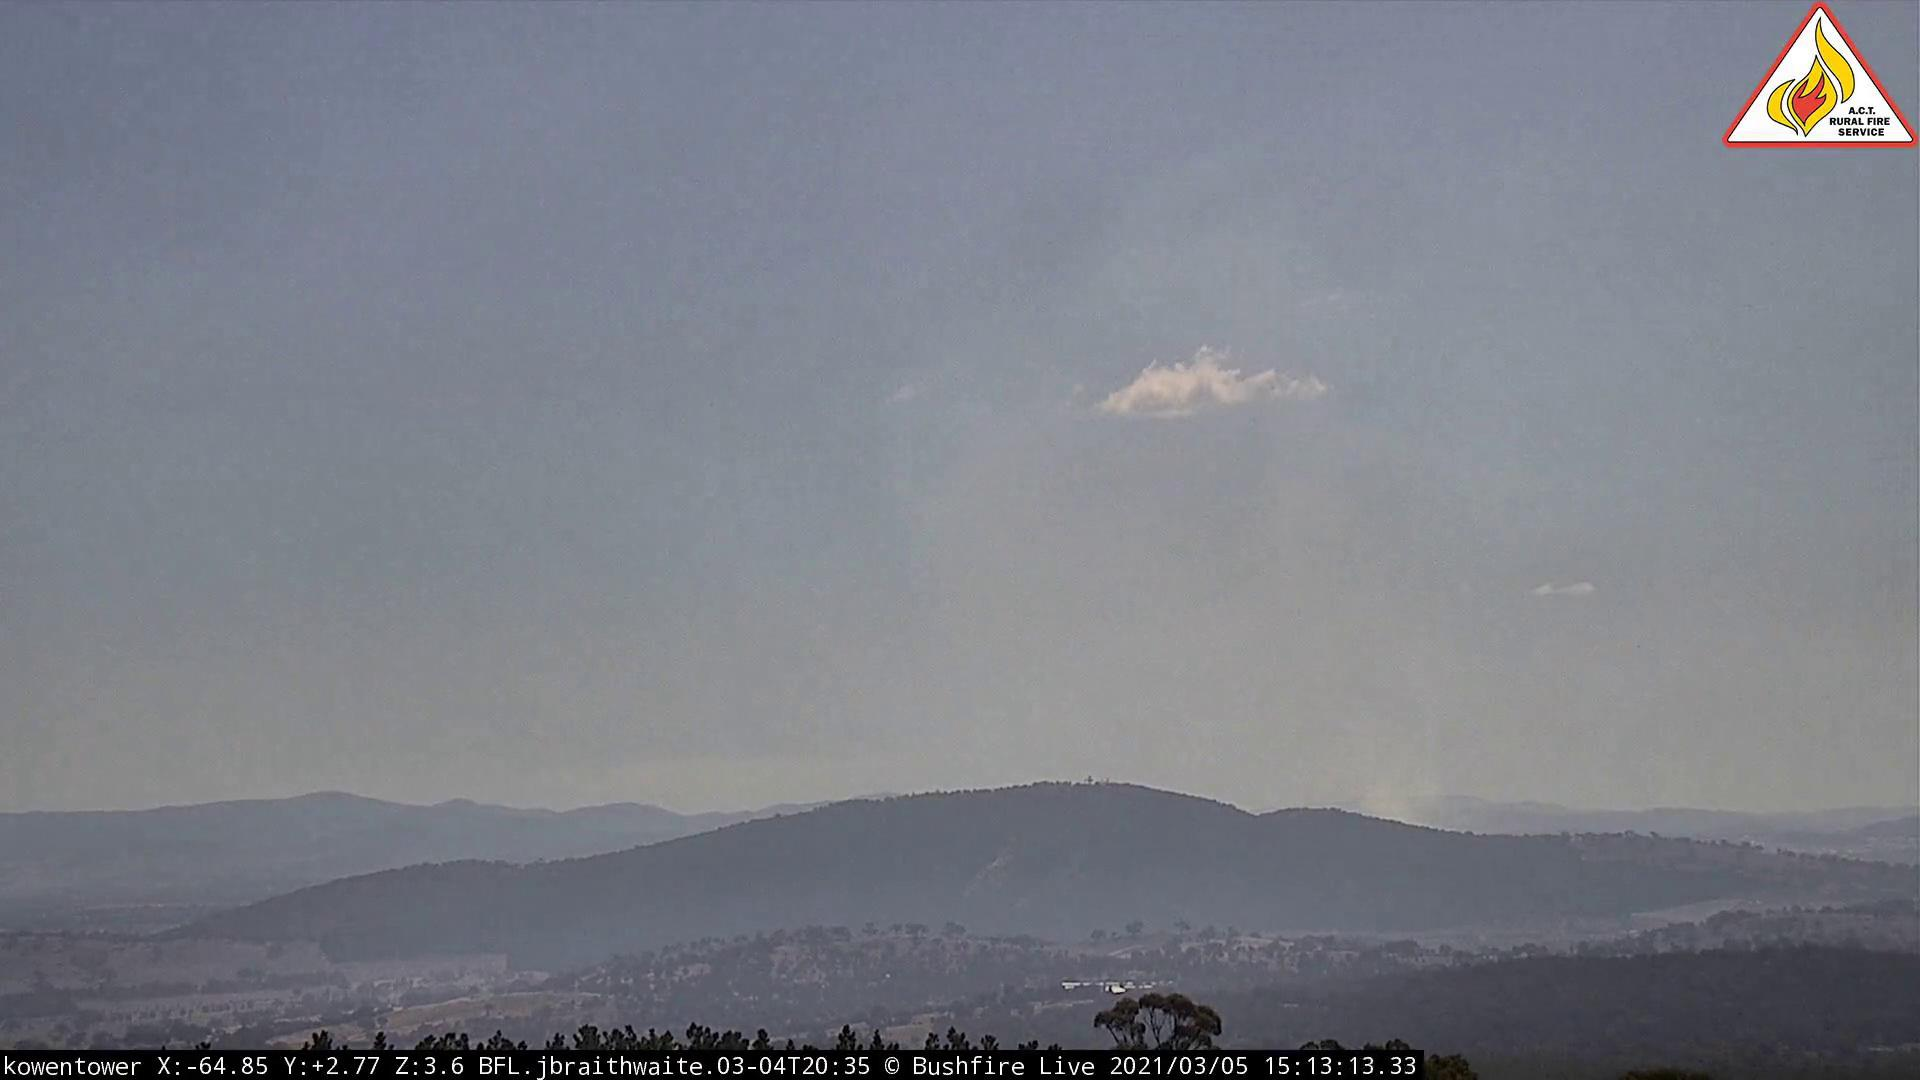Smoke: (886, 266, 1451, 831)
